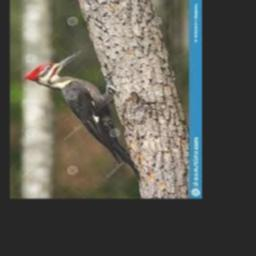Woodpecker: (26, 50, 140, 180)
